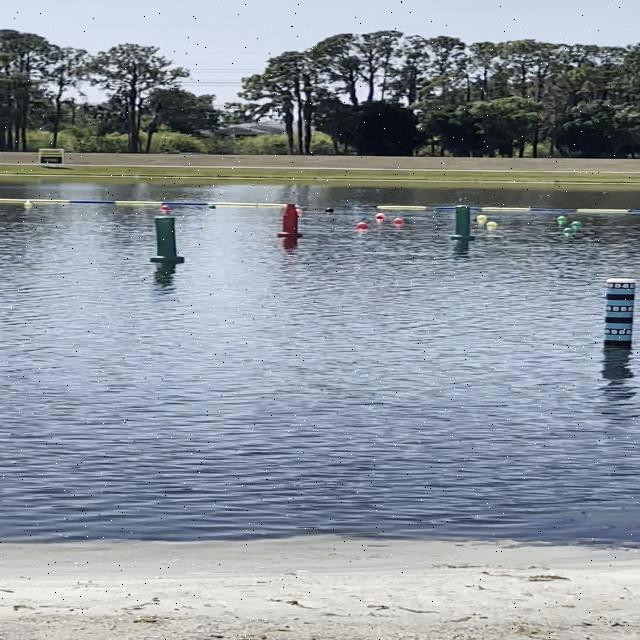buoy: (353, 222, 370, 231), (392, 216, 406, 226), (484, 220, 501, 228), (569, 221, 586, 228), (322, 207, 338, 214), (374, 213, 388, 220), (560, 228, 574, 234), (556, 215, 568, 222), (477, 215, 488, 221)
